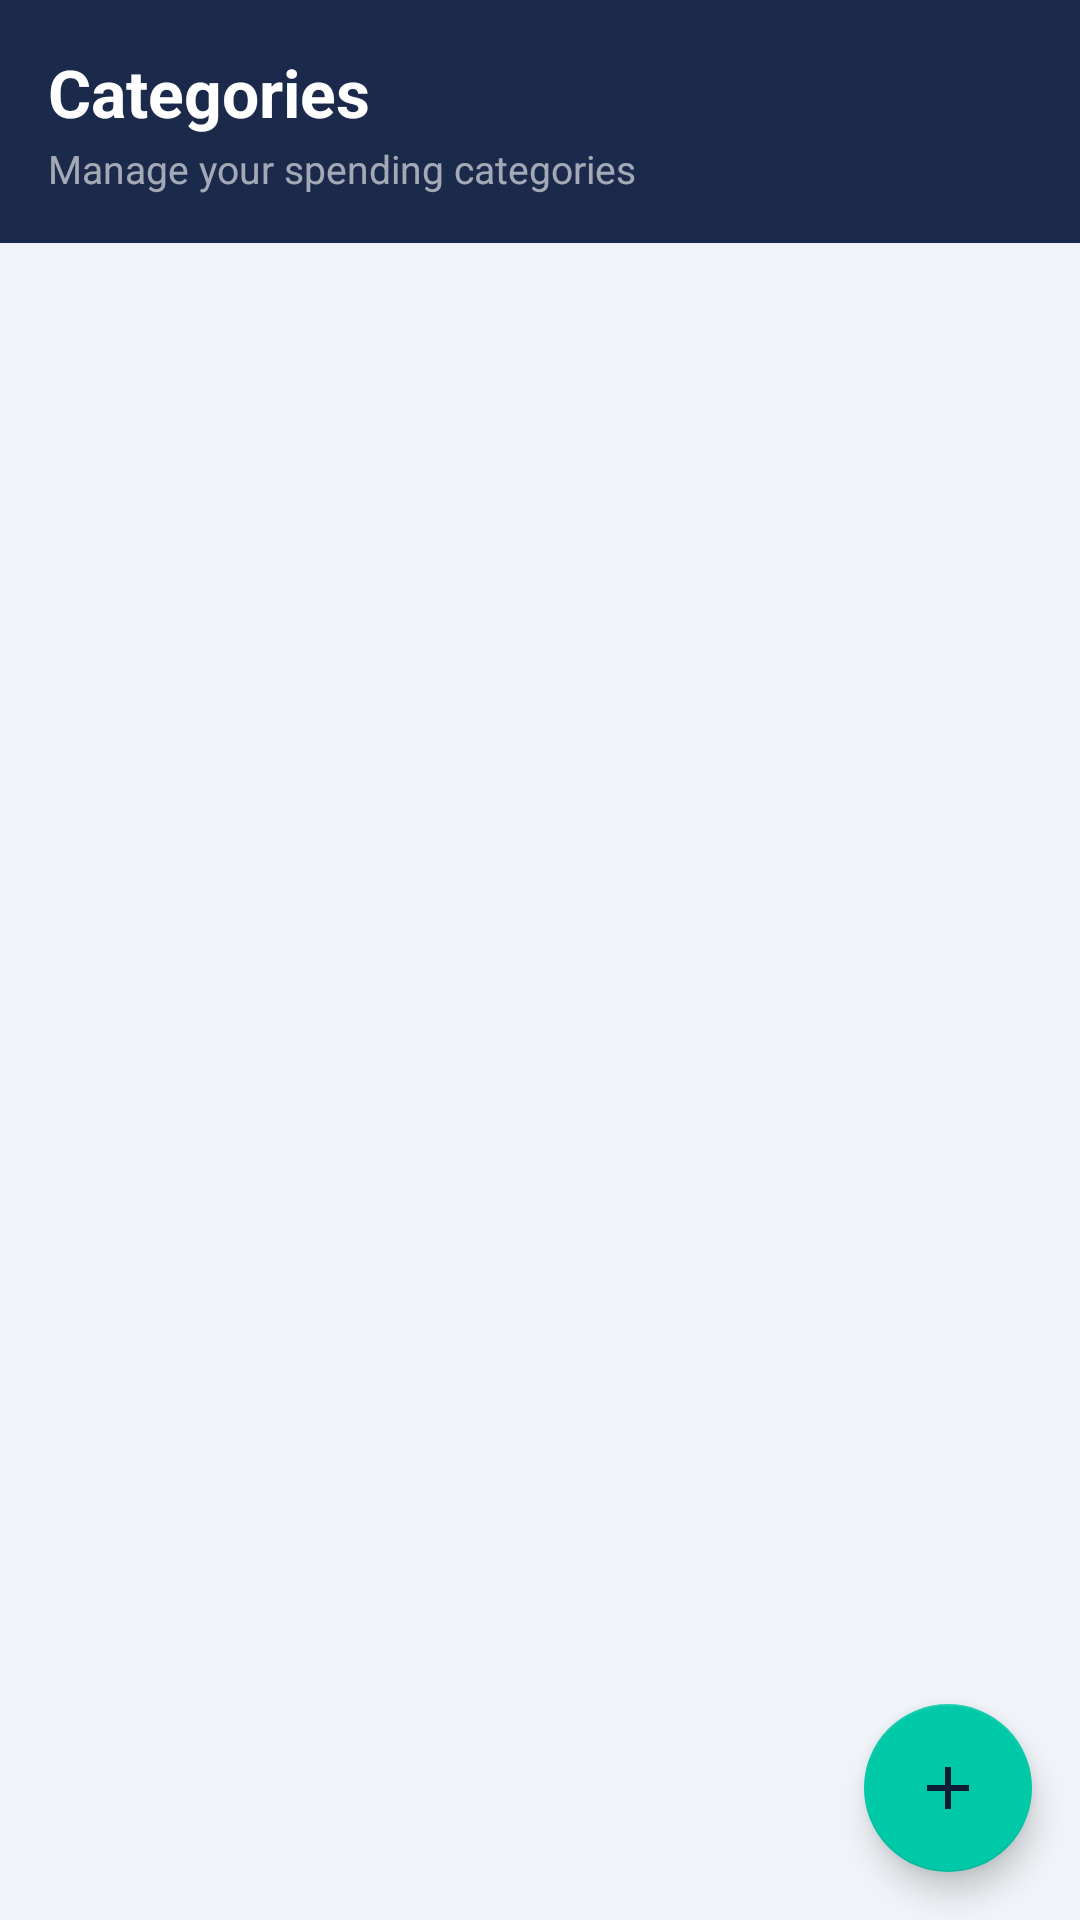

Icon click points for this 1080*1920 phone screenshot, format point (x, y):
Add Category: point (948, 1788)
